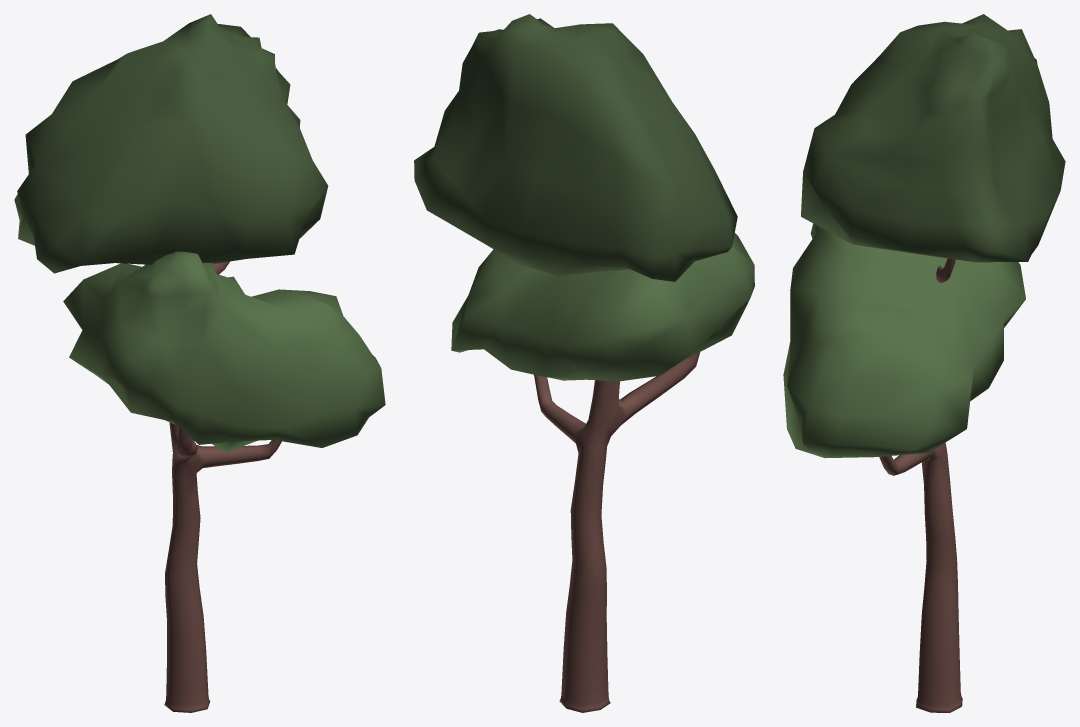
File: CommonTree_3.glb
3 renders of one model, left to right at view 1: azimuth 30°, elevation 25°; view 2: azimuth 150°, elevation 25°; view 3: azimuth 270°, elevation 25°, orthographic. The views are drawn at different scales.
Parts seen in each view (by area): view 1: CommonTree_3; view 2: CommonTree_3; view 3: CommonTree_3.
Part boxes in pixels (x1=…): CommonTree_3: x1=14, y1=14, x2=385, y2=712; CommonTree_3: x1=414, y1=14, x2=754, y2=712; CommonTree_3: x1=783, y1=14, x2=1065, y2=712.
Size of the model in its own units: 1.56 by 3.46 by 1.28.
